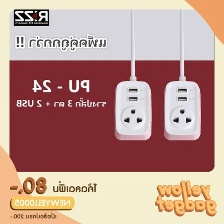three_eye_plug: (110, 79, 154, 143), (162, 78, 203, 142)
